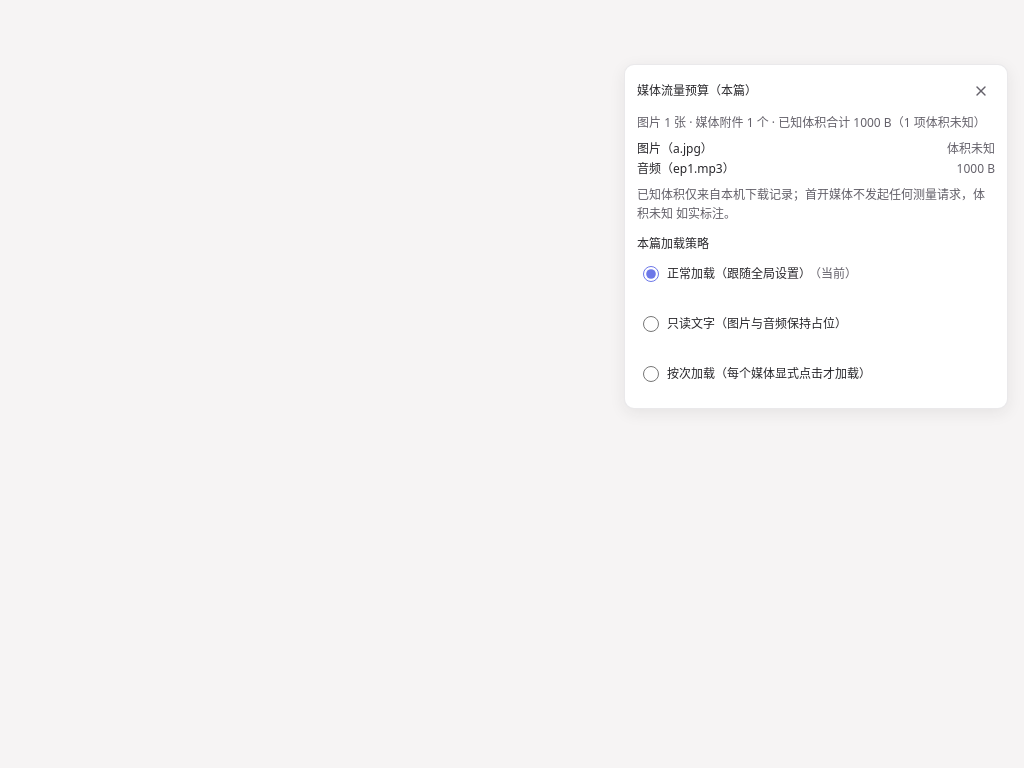
Test: NEW-355 预算面板 › 显示图片/附件汇总与逐项体积（未知如实标注）；策略选择持久化
The image size is (1024, 768).
Expected: the text "图片 1 张 · 媒体附件 1 个 · 已知体积合计 1000 B（1 项体积未知）" is shown, [637,113,995,132]
Expected: the text "体积未知" is shown, [947,140,995,156]
Note: 选择只读文字 → 持久化 + 模式说明出现
Click the radio button labelled "只读文字（图片与音频保持占位）". click: (651, 324)
box: [643,316,659,332]
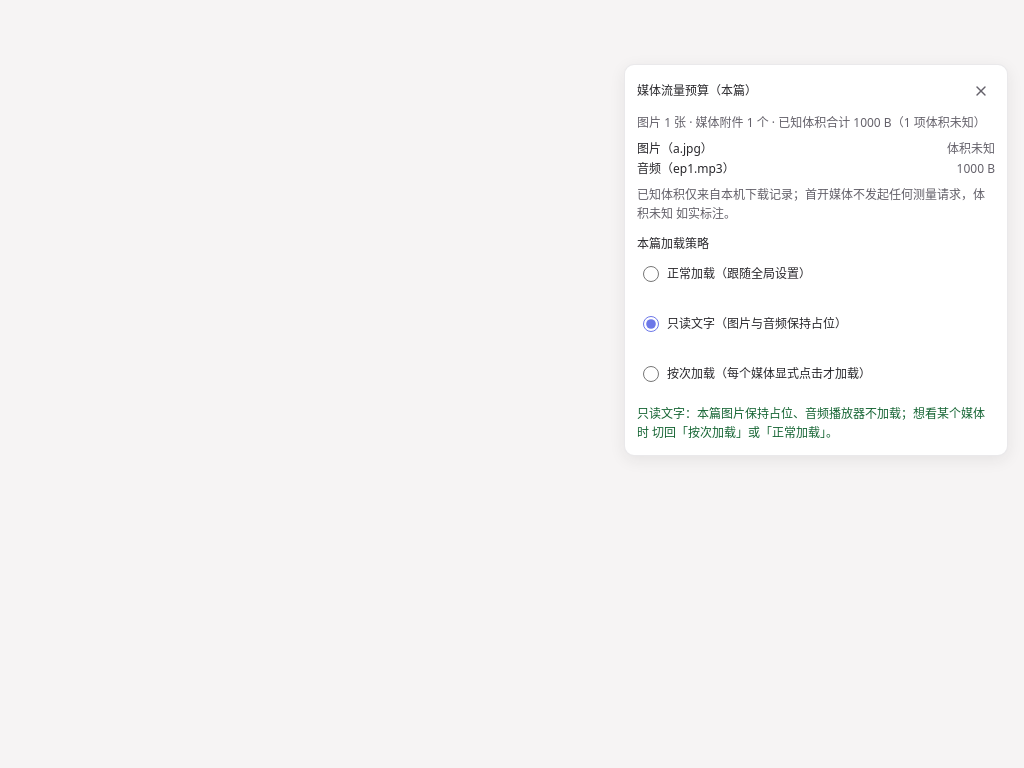
Expected: the text "只读文字：本篇图片保持占位、音频播放器不加载；想看某个媒体时 切回「按次加载」或「正常加载」。" is shown, [637,404,995,442]
